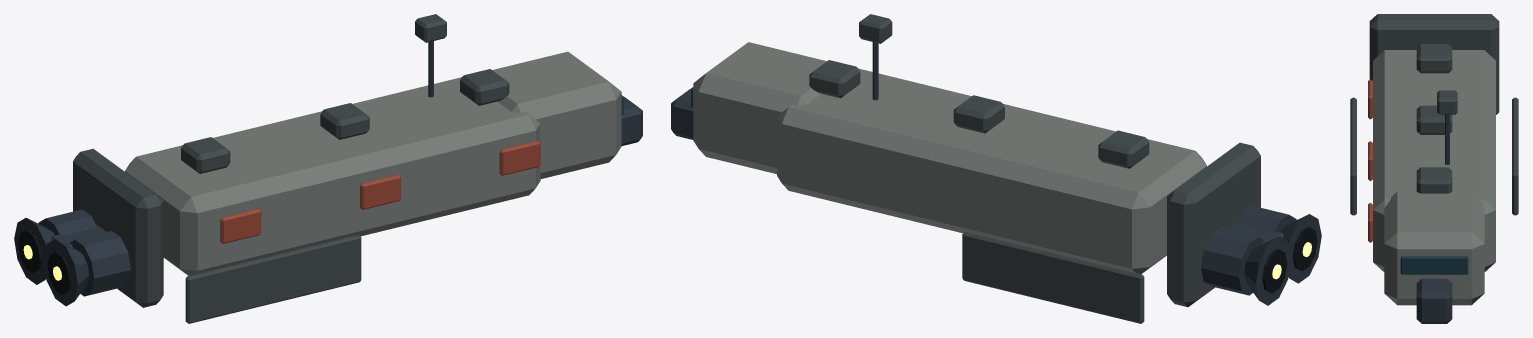
The model's file is iron-clause.glb.
3 renders of one model, left to right at view 1: azimuth 30°, elevation 25°; view 2: azimuth 150°, elevation 25°; view 3: azimuth 270°, elevation 25°, orthographic. The views are drawn at different scales.
Visible parts, largest first — view 1: armored mission hull, forward command, shuttered radiator, reactor shield, engine jacket, engine bell, dorsal mount, dorsal mount.001, dorsal mount.002, structural spine, weapon access.002, weapon access (+6 smaller); view 2: armored mission hull, forward command, shuttered radiator.001, reactor shield, engine jacket.001, engine bell.001, dorsal mount, dorsal mount.001, dorsal mount.002, structural spine, engine bell, engine jacket (+3 smaller); view 3: armored mission hull, forward command, reactor shield, structural spine, bridge glazing, dorsal mount, dorsal mount.002, dorsal mount.001, shuttered radiator, shuttered radiator.001, sensor head, radio mast (+3 smaller).
Part boxes in pixels (box(x1,y1,x2,y2)): armored mission hull: box(125, 77, 540, 275); forward command: box(492, 51, 621, 178); shuttered radiator: box(185, 234, 361, 323); reactor shield: box(73, 148, 163, 307); engine jacket: box(70, 231, 130, 296); engine bell: box(43, 239, 88, 306); dorsal mount: box(181, 137, 230, 173); dorsal mount.001: box(320, 103, 369, 139); dorsal mount.002: box(460, 69, 509, 105); structural spine: box(51, 97, 642, 257); weapon access.002: box(499, 140, 540, 175); weapon access: box(220, 208, 261, 243); armored mission hull: box(777, 68, 1206, 274); forward command: box(693, 42, 826, 173); shuttered radiator.001: box(962, 231, 1144, 323); reactor shield: box(1167, 142, 1260, 307); engine jacket.001: box(1201, 227, 1263, 295); engine bell.001: box(1244, 236, 1288, 305); dorsal mount: box(1098, 130, 1149, 168); dorsal mount.001: box(953, 95, 1004, 133); dorsal mount.002: box(809, 60, 860, 98); structural spine: box(671, 88, 1283, 255); engine bell: box(1280, 214, 1321, 283); engine jacket: box(1236, 205, 1296, 232); armored mission hull: box(1373, 50, 1495, 271); forward command: box(1384, 191, 1484, 305); reactor shield: box(1369, 14, 1499, 114); structural spine: box(1416, 278, 1452, 323); bridge glazing: box(1400, 256, 1468, 274); dorsal mount: box(1416, 44, 1452, 73); dorsal mount.002: box(1416, 167, 1452, 193); dorsal mount.001: box(1416, 105, 1452, 134); shuttered radiator: box(1350, 97, 1356, 215); shuttered radiator.001: box(1512, 97, 1518, 215); sensor head: box(1437, 90, 1457, 114); radio mast: box(1445, 114, 1449, 164).
Size of the model in its own units: 9.6 by 3 by 2.6.
